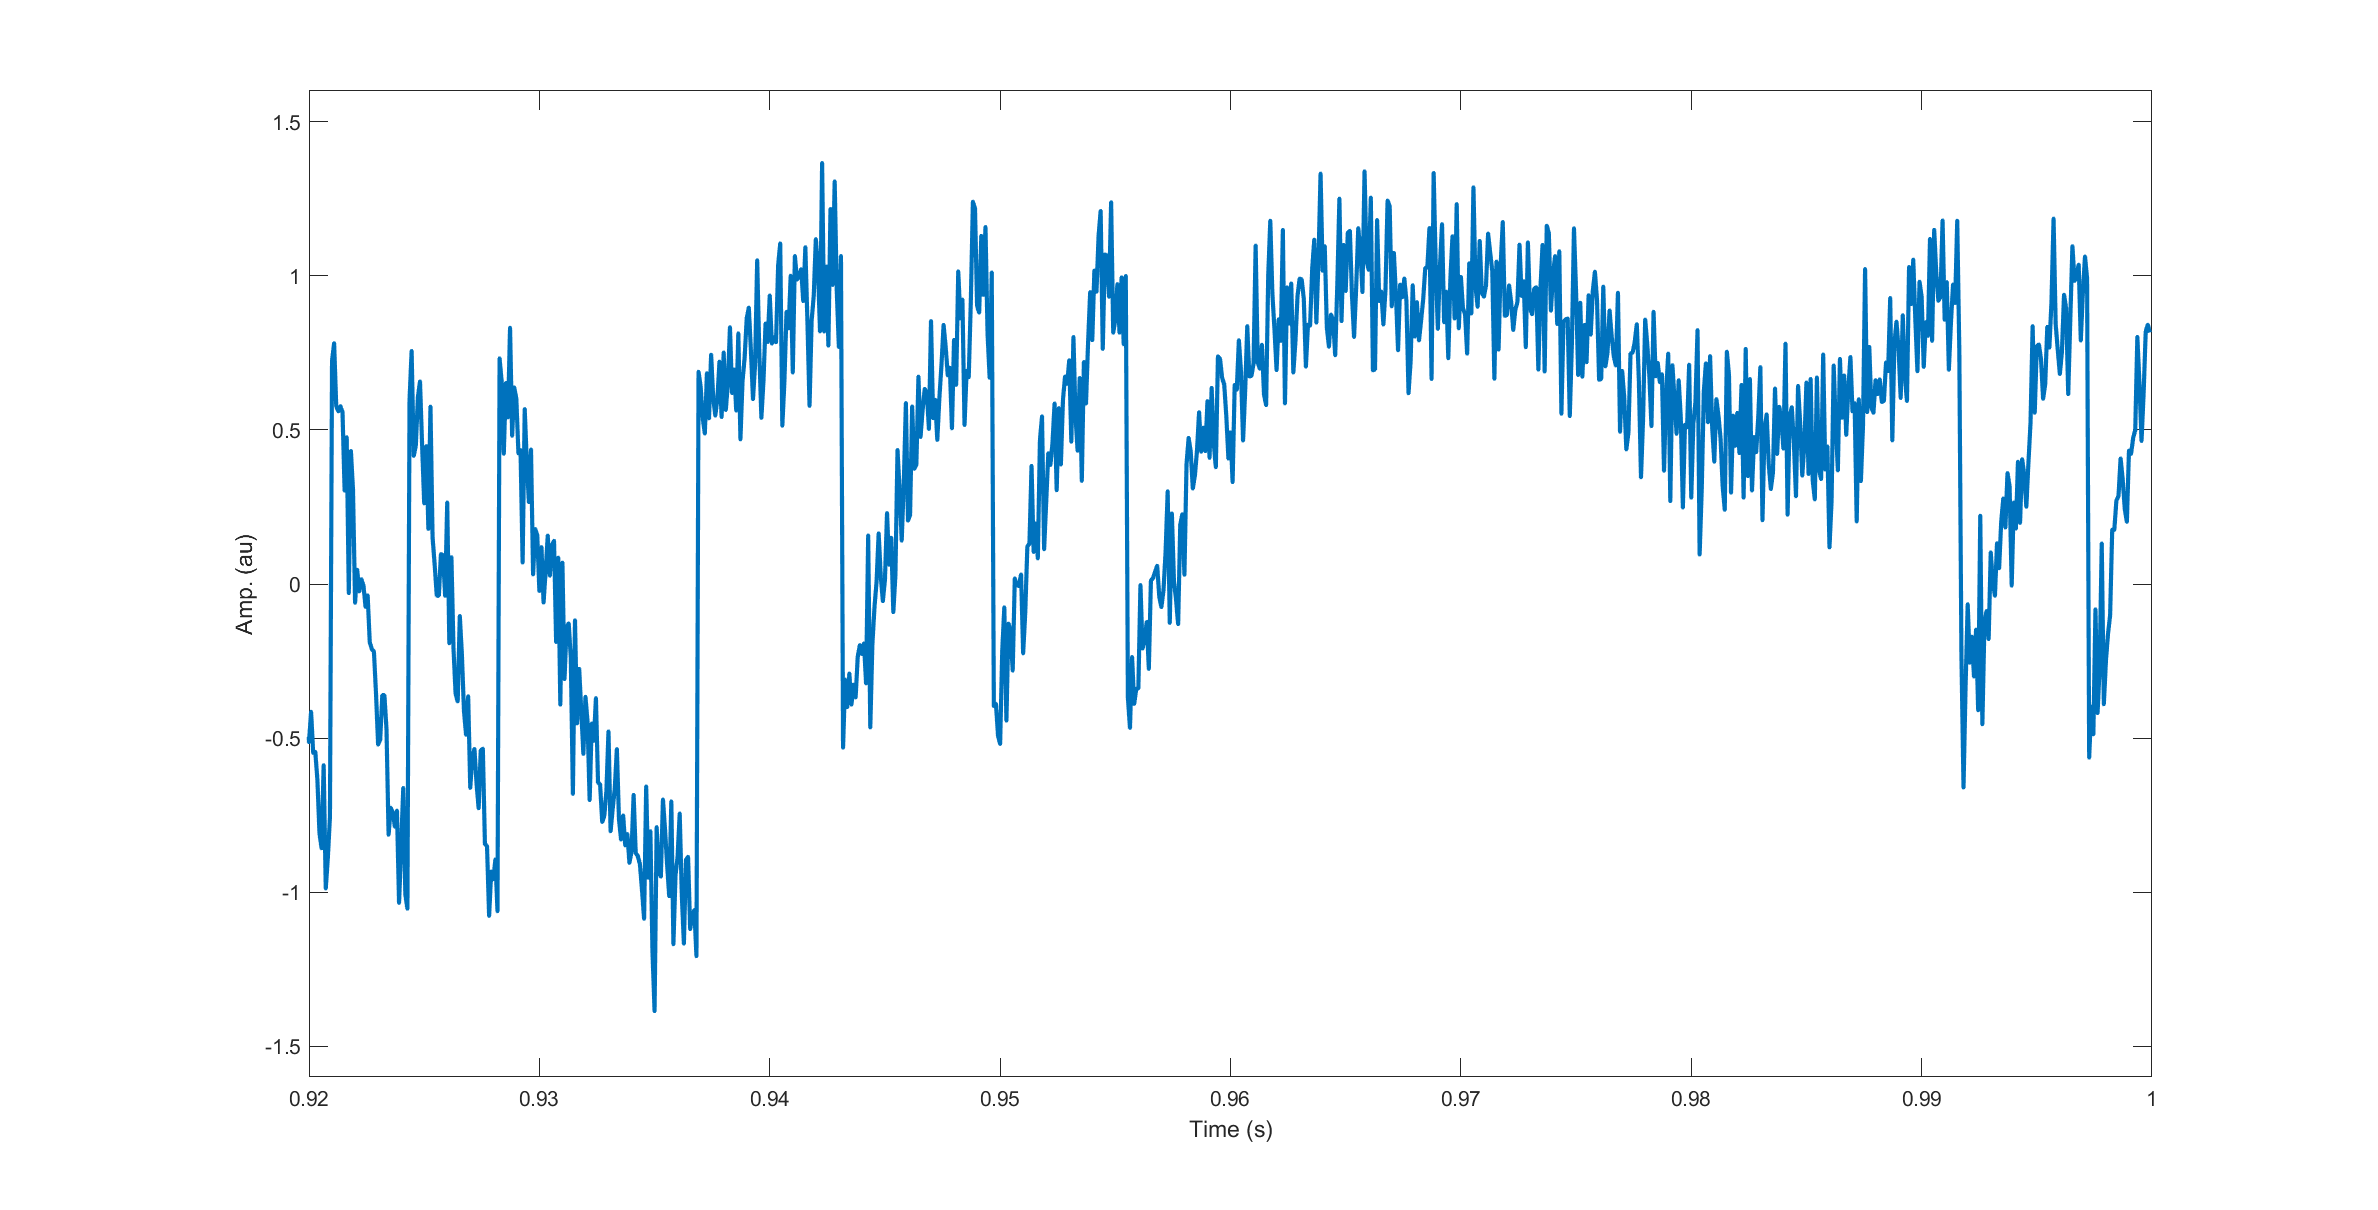negative_fringe: (485, 306, 667, 1026), (1819, 205, 1974, 793), (1988, 205, 2106, 776), (390, 327, 481, 903), (319, 327, 386, 895)
positive_fringe: (867, 182, 1003, 708), (1029, 191, 1136, 715)
